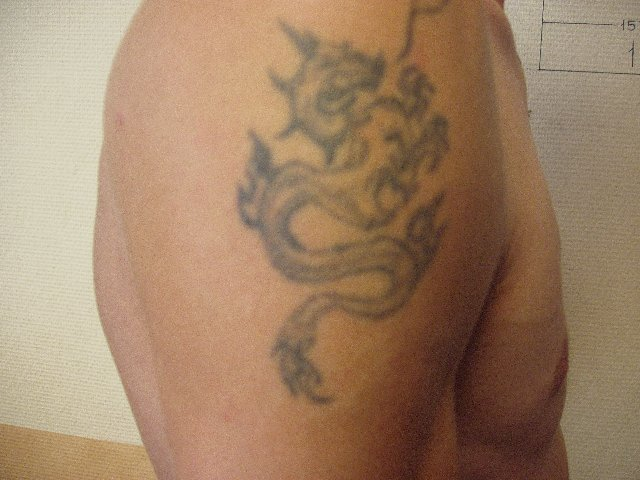tatu6_drakon: (236, 16, 465, 414)
